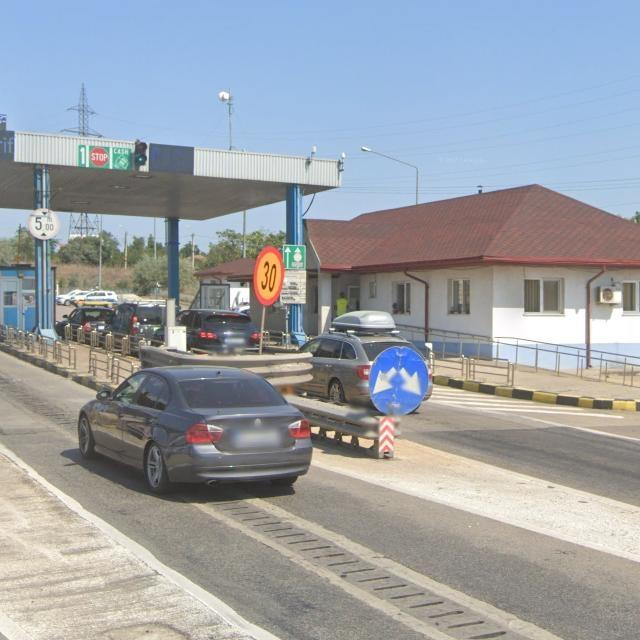forb_speed_over_30: (252, 246, 284, 305)
